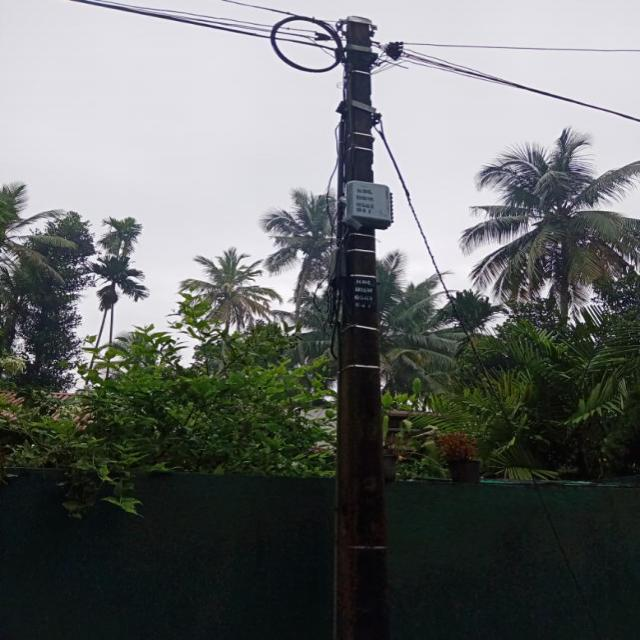light_pole: (326, 9, 398, 640)
